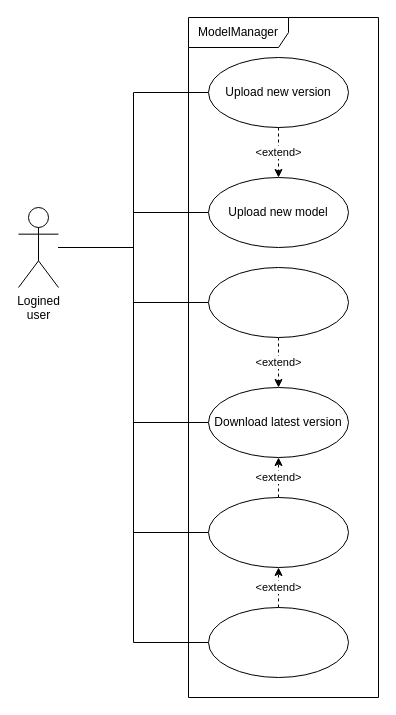
Image size: 396x715. Some labels were removed from this diagram. The shapes that lost their labels are listed below. From the top down, each one's centre as x and y in pixels, then its label:
point 278,302: Download version
point 278,532: Get version list
point 278,642: Get model list
